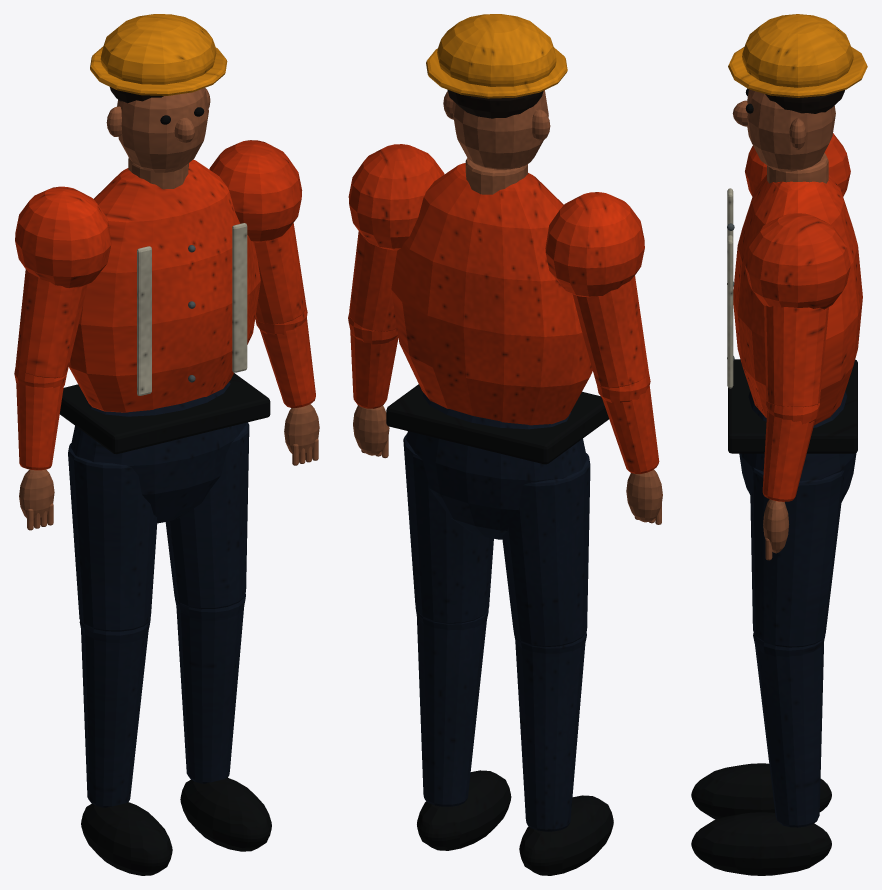
File: PROP-551DA44848C9_lod0.glb
3 renders of one model, left to right at view 1: azimuth 30°, elevation 25°; view 2: azimuth 150°, elevation 25°; view 3: azimuth 270°, elevation 25°, orthographic. The views are drawn at different scales.
Visible parts, largest first — view 1: torso.024, thigh.023, calf.023, shoulder.024, shoe.023, upper_arm.024, pelvis.023, belt.023, hardhat, forearm.024, head.023, vest_reflective_tape (+6 smaller); view 2: torso.024, thigh.023, calf.023, shoulder.024, pelvis.023, upper_arm.024, shoe.023, belt.023, hardhat, forearm.024, head.023, hand.023 (+6 smaller); view 3: thigh.023, torso.024, shoe.023, shoulder.024, calf.023, hardhat, upper_arm.024, belt.023, head.023, forearm.024, pelvis.023, hardhat_brim (+7 smaller).
Boxes of the visible parts, box(x1,y1,x2,y2) form: torso.024: box(68, 159, 260, 412); thigh.023: box(68, 422, 249, 631); calf.023: box(81, 606, 244, 807); shoulder.024: box(15, 140, 302, 288); shoe.023: box(81, 778, 271, 875); upper_arm.024: box(15, 223, 305, 378); pelvis.023: box(70, 381, 245, 523); belt.023: box(59, 373, 270, 454); hardhat: box(100, 14, 216, 84); forearm.024: box(16, 317, 315, 470); head.023: box(117, 88, 208, 172); vest_reflective_tape: box(137, 223, 247, 395); torso.024: box(391, 163, 592, 425); thigh.023: box(403, 433, 590, 646); calf.023: box(416, 615, 585, 831); shoulder.024: box(348, 144, 644, 297); pelvis.023: box(406, 393, 586, 539); upper_arm.024: box(349, 231, 648, 387); shoe.023: box(417, 770, 613, 875); belt.023: box(386, 384, 608, 464); hardhat: box(437, 14, 556, 86); forearm.024: box(350, 331, 659, 473); head.023: box(452, 90, 548, 169); hand.023: box(353, 405, 662, 522); thigh.023: box(750, 467, 844, 647); torso.024: box(733, 175, 862, 425); shoe.023: box(691, 763, 831, 875); shoulder.024: box(745, 133, 850, 309); calf.023: box(755, 642, 823, 827); hardhat: box(742, 14, 853, 87); upper_arm.024: box(763, 305, 828, 407); belt.023: box(728, 359, 857, 453); head.023: box(747, 89, 835, 171); forearm.024: box(762, 410, 814, 501); pelvis.023: box(739, 391, 856, 502); hardhat_brim: box(728, 46, 867, 97).
Size of the model in its own units: 0.7175 by 1.89 by 0.3661.
Materials: 8 (8 with a texture image).
